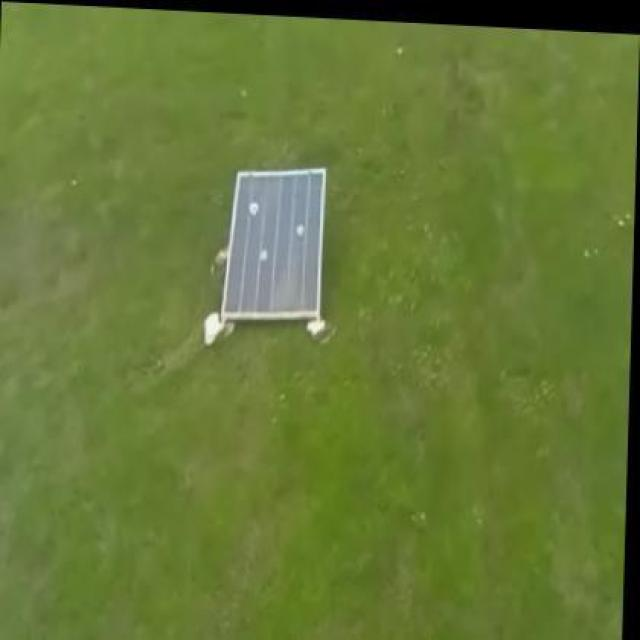soiled: (218, 169, 326, 323)
